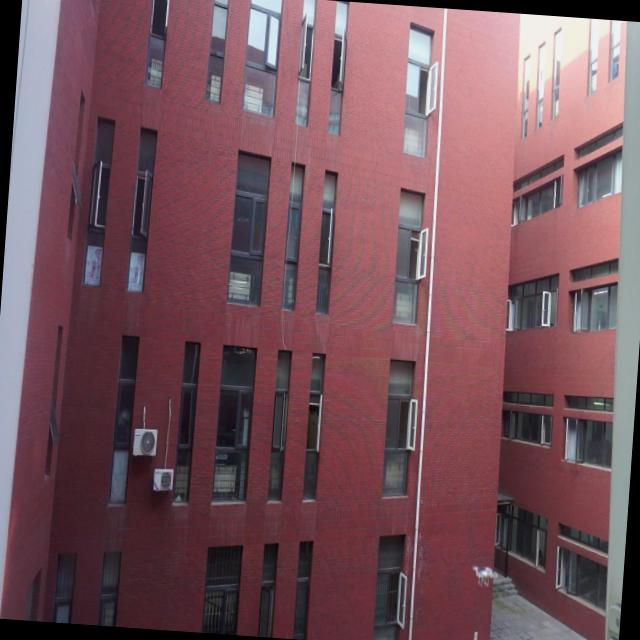drone: (469, 556, 498, 592)
